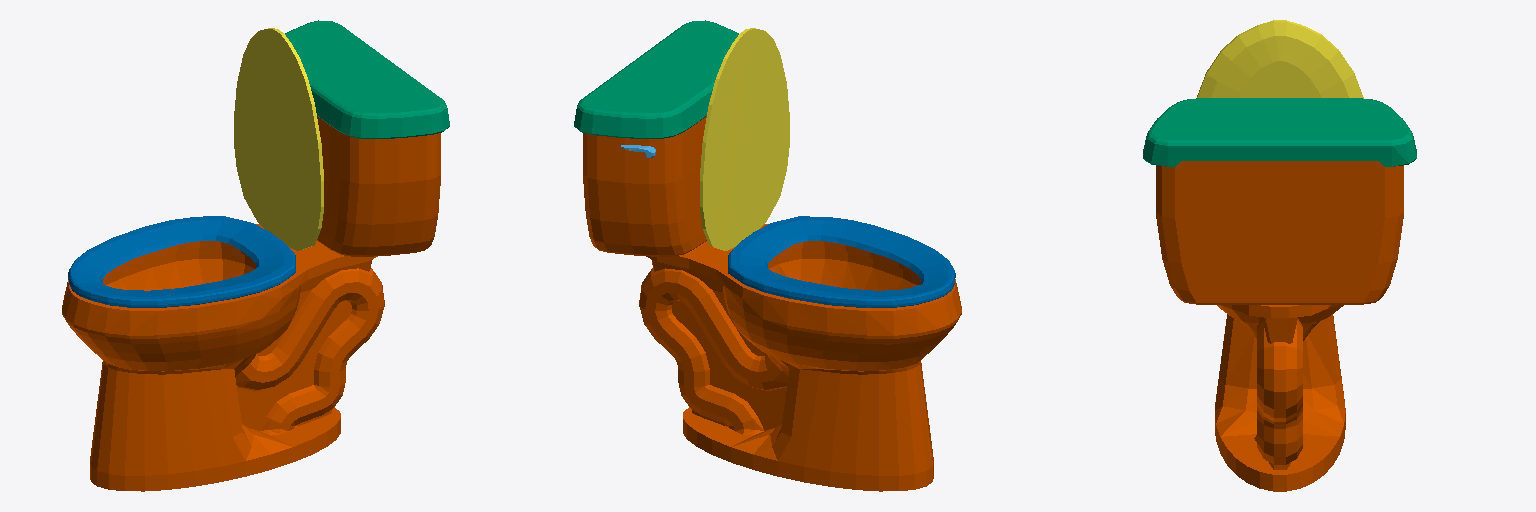
The robot description file, URDF, robot "partnet_90d8ecd307decf706a226ddbed37ec38-0":
<robot name="partnet_90d8ecd307decf706a226ddbed37ec38-0">
	<link name="base" />
	<link name="link_0">
		<collision>
			<origin xyz="0.3735346544769089 -0.49883739760860735 0.21351123852138465" />
			<geometry>
				<mesh filename="new_objs/102667_link_0_1.obj" />
			</geometry>
		</collision>
	<collision>
			<origin xyz="0.3735346544769089 -0.49883739760860735 0.21351123852138465" />
			<geometry>
				<mesh filename="new_objs/102667_link_0_0.obj" />
			</geometry>
		</collision>
	<visual name="button-part[&quot;id]">
			<origin xyz="0.3735346544769089 -0.49883739760860735 0.21351123852138465" />
			<geometry>
				<mesh filename="textured_objs/original-9.obj" />
			</geometry>
		</visual>
		</link>
	<joint name="joint_0" type="revolute">
		<origin xyz="-0.3735346544769089 0.49883739760860735 -0.21351123852138465" />
		<axis xyz="-0.9184431691741543 -6.217336291360914e-06 0.39555296100355597" />
		<child link="link_0" />
		<parent link="link_4" />
		<limit lower="-0.0" upper="0.5235987755982988" />
	</joint>
	<link name="link_1">
		<collision>
			<origin xyz="0 0 0" />
			<geometry>
				<mesh filename="new_objs/102667_link_1_3.obj" />
			</geometry>
		</collision>
		<collision>
			<origin xyz="0 0 0" />
			<geometry>
				<mesh filename="new_objs/102667_link_1_1.obj" />
			</geometry>
		</collision>
		<collision>
			<origin xyz="0 0 0" />
			<geometry>
				<mesh filename="new_objs/102667_link_1_12.obj" />
			</geometry>
		</collision>
		<collision>
			<origin xyz="0 0 0" />
			<geometry>
				<mesh filename="new_objs/102667_link_1_10.obj" />
			</geometry>
		</collision>
		<collision>
			<origin xyz="0 0 0" />
			<geometry>
				<mesh filename="new_objs/102667_link_1_13.obj" />
			</geometry>
		</collision>
		<collision>
			<origin xyz="0 0 0" />
			<geometry>
				<mesh filename="new_objs/102667_link_1_2.obj" />
			</geometry>
		</collision>
		<collision>
			<origin xyz="0 0 0" />
			<geometry>
				<mesh filename="new_objs/102667_link_1_5.obj" />
			</geometry>
		</collision>
		<collision>
			<origin xyz="0 0 0" />
			<geometry>
				<mesh filename="new_objs/102667_link_1_15.obj" />
			</geometry>
		</collision>
		<collision>
			<origin xyz="0 0 0" />
			<geometry>
				<mesh filename="new_objs/102667_link_1_0.obj" />
			</geometry>
		</collision>
		<collision>
			<origin xyz="0 0 0" />
			<geometry>
				<mesh filename="new_objs/102667_link_1_7.obj" />
			</geometry>
		</collision>
		<collision>
			<origin xyz="0 0 0" />
			<geometry>
				<mesh filename="new_objs/102667_link_1_9.obj" />
			</geometry>
		</collision>
		<collision>
			<origin xyz="0 0 0" />
			<geometry>
				<mesh filename="new_objs/102667_link_1_6.obj" />
			</geometry>
		</collision>
		<collision>
			<origin xyz="0 0 0" />
			<geometry>
				<mesh filename="new_objs/102667_link_1_11.obj" />
			</geometry>
		</collision>
		<collision>
			<origin xyz="0 0 0" />
			<geometry>
				<mesh filename="new_objs/102667_link_1_4.obj" />
			</geometry>
		</collision>
		<collision>
			<origin xyz="0 0 0" />
			<geometry>
				<mesh filename="new_objs/102667_link_1_14.obj" />
			</geometry>
		</collision>
		<collision>
			<origin xyz="0 0 0" />
			<geometry>
				<mesh filename="new_objs/102667_link_1_8.obj" />
			</geometry>
		</collision>
		<visual name="lid-part[&quot;id]">
			<origin xyz="0 0 0" />
			<geometry>
				<mesh filename="textured_objs/original-4.obj" />
			</geometry>
		</visual>
		<visual name="lid-part[&quot;id]">
			<origin xyz="0 0 0" />
			<geometry>
				<mesh filename="textured_objs/original-3.obj" />
			</geometry>
		</visual>
		</link>
	<joint name="joint_1" type="prismatic">
		<origin xyz="0 0 0" />
		<axis xyz="0 1 0" />
		<child link="link_1" />
		<parent link="link_4" />
		<limit lower="0" upper="0.03" />
	</joint>
	<link name="link_2">
		<collision>
			<origin xyz="0 -0.04443234440934228 0.040293276283889914" />
			<geometry>
				<mesh filename="new_objs/102667_link_2_0.obj" />
			</geometry>
		</collision>
		<visual name="lid-part[&quot;id]">
			<origin xyz="0 -0.04443234440934228 0.040293276283889914" />
			<geometry>
				<mesh filename="textured_objs/original-19.obj" />
			</geometry>
		</visual>
		<visual name="lid-part[&quot;id]">
			<origin xyz="0 -0.04443234440934228 0.040293276283889914" />
			<geometry>
				<mesh filename="textured_objs/original-18.obj" />
			</geometry>
		</visual>
		</link>
	<joint name="joint_2" type="revolute">
		<origin xyz="0 0.04443234440934228 -0.040293276283889914" />
		<axis xyz="-1 0 0" />
		<child link="link_2" />
		<parent link="link_4" />
		<limit lower="-1.5707963267948966" upper="0.08726646259971647" />
	</joint>
	<link name="link_3">
		<collision>
			<origin xyz="0 -0.04443234440934228 0.040293276283889914" />
			<geometry>
				<mesh filename="new_objs/102667_link_3_5.obj" />
			</geometry>
		</collision>
		<collision>
			<origin xyz="0 -0.04443234440934228 0.040293276283889914" />
			<geometry>
				<mesh filename="new_objs/102667_link_3_2.obj" />
			</geometry>
		</collision>
		<collision>
			<origin xyz="0 -0.04443234440934228 0.040293276283889914" />
			<geometry>
				<mesh filename="new_objs/102667_link_3_7.obj" />
			</geometry>
		</collision>
		<collision>
			<origin xyz="0 -0.04443234440934228 0.040293276283889914" />
			<geometry>
				<mesh filename="new_objs/102667_link_3_6.obj" />
			</geometry>
		</collision>
		<collision>
			<origin xyz="0 -0.04443234440934228 0.040293276283889914" />
			<geometry>
				<mesh filename="new_objs/102667_link_3_4.obj" />
			</geometry>
		</collision>
		<collision>
			<origin xyz="0 -0.04443234440934228 0.040293276283889914" />
			<geometry>
				<mesh filename="new_objs/102667_link_3_3.obj" />
			</geometry>
		</collision>
		<collision>
			<origin xyz="0 -0.04443234440934228 0.040293276283889914" />
			<geometry>
				<mesh filename="new_objs/102667_link_3_0.obj" />
			</geometry>
		</collision>
		<collision>
			<origin xyz="0 -0.04443234440934228 0.040293276283889914" />
			<geometry>
				<mesh filename="new_objs/102667_link_3_1.obj" />
			</geometry>
		</collision>
		<visual name="seat-part[&quot;id]">
			<origin xyz="0 -0.04443234440934228 0.040293276283889914" />
			<geometry>
				<mesh filename="textured_objs/original-16.obj" />
			</geometry>
		</visual>
		<visual name="seat-part[&quot;id]">
			<origin xyz="0 -0.04443234440934228 0.040293276283889914" />
			<geometry>
				<mesh filename="textured_objs/original-15.obj" />
			</geometry>
		</visual>
		</link>
	<joint name="joint_3" type="revolute">
		<origin xyz="0 0.04443234440934228 -0.040293276283889914" />
		<axis xyz="-1 0 0" />
		<child link="link_3" />
		<parent link="link_4" />
		<limit lower="-0.0" upper="1.658062789394613" />
	</joint>
	<link name="link_4">
		<collision>
			<origin xyz="0 0 0" />
			<geometry>
				<mesh filename="new_objs/102667_link_4_7.obj" />
			</geometry>
		</collision>
		<collision>
			<origin xyz="0 0 0" />
			<geometry>
				<mesh filename="new_objs/102667_link_4_16.obj" />
			</geometry>
		</collision>
		<collision>
			<origin xyz="0 0 0" />
			<geometry>
				<mesh filename="new_objs/102667_link_4_6.obj" />
			</geometry>
		</collision>
		<collision>
			<origin xyz="0 0 0" />
			<geometry>
				<mesh filename="new_objs/102667_link_4_17.obj" />
			</geometry>
		</collision>
		<collision>
			<origin xyz="0 0 0" />
			<geometry>
				<mesh filename="new_objs/102667_link_4_2.obj" />
			</geometry>
		</collision>
		<collision>
			<origin xyz="0 0 0" />
			<geometry>
				<mesh filename="new_objs/102667_link_4_29.obj" />
			</geometry>
		</collision>
		<collision>
			<origin xyz="0 0 0" />
			<geometry>
				<mesh filename="new_objs/102667_link_4_10.obj" />
			</geometry>
		</collision>
		<collision>
			<origin xyz="0 0 0" />
			<geometry>
				<mesh filename="new_objs/102667_link_4_15.obj" />
			</geometry>
		</collision>
		<collision>
			<origin xyz="0 0 0" />
			<geometry>
				<mesh filename="new_objs/102667_link_4_23.obj" />
			</geometry>
		</collision>
		<collision>
			<origin xyz="0 0 0" />
			<geometry>
				<mesh filename="new_objs/102667_link_4_9.obj" />
			</geometry>
		</collision>
		<collision>
			<origin xyz="0 0 0" />
			<geometry>
				<mesh filename="new_objs/102667_link_4_4.obj" />
			</geometry>
		</collision>
		<collision>
			<origin xyz="0 0 0" />
			<geometry>
				<mesh filename="new_objs/102667_link_4_24.obj" />
			</geometry>
		</collision>
		<collision>
			<origin xyz="0 0 0" />
			<geometry>
				<mesh filename="new_objs/102667_link_4_14.obj" />
			</geometry>
		</collision>
		<collision>
			<origin xyz="0 0 0" />
			<geometry>
				<mesh filename="new_objs/102667_link_4_28.obj" />
			</geometry>
		</collision>
		<collision>
			<origin xyz="0 0 0" />
			<geometry>
				<mesh filename="new_objs/102667_link_4_21.obj" />
			</geometry>
		</collision>
		<collision>
			<origin xyz="0 0 0" />
			<geometry>
				<mesh filename="new_objs/102667_link_4_5.obj" />
			</geometry>
		</collision>
		<collision>
			<origin xyz="0 0 0" />
			<geometry>
				<mesh filename="new_objs/102667_link_4_25.obj" />
			</geometry>
		</collision>
		<collision>
			<origin xyz="0 0 0" />
			<geometry>
				<mesh filename="new_objs/102667_link_4_18.obj" />
			</geometry>
		</collision>
		<collision>
			<origin xyz="0 0 0" />
			<geometry>
				<mesh filename="new_objs/102667_link_4_19.obj" />
			</geometry>
		</collision>
		<collision>
			<origin xyz="0 0 0" />
			<geometry>
				<mesh filename="new_objs/102667_link_4_30.obj" />
			</geometry>
		</collision>
		<collision>
			<origin xyz="0 0 0" />
			<geometry>
				<mesh filename="new_objs/102667_link_4_20.obj" />
			</geometry>
		</collision>
		<collision>
			<origin xyz="0 0 0" />
			<geometry>
				<mesh filename="new_objs/102667_link_4_11.obj" />
			</geometry>
		</collision>
		<collision>
			<origin xyz="0 0 0" />
			<geometry>
				<mesh filename="new_objs/102667_link_4_22.obj" />
			</geometry>
		</collision>
		<collision>
			<origin xyz="0 0 0" />
			<geometry>
				<mesh filename="new_objs/102667_link_4_1.obj" />
			</geometry>
		</collision>
		<collision>
			<origin xyz="0 0 0" />
			<geometry>
				<mesh filename="new_objs/102667_link_4_26.obj" />
			</geometry>
		</collision>
		<collision>
			<origin xyz="0 0 0" />
			<geometry>
				<mesh filename="new_objs/102667_link_4_13.obj" />
			</geometry>
		</collision>
		<collision>
			<origin xyz="0 0 0" />
			<geometry>
				<mesh filename="new_objs/102667_link_4_8.obj" />
			</geometry>
		</collision>
		<collision>
			<origin xyz="0 0 0" />
			<geometry>
				<mesh filename="new_objs/102667_link_4_27.obj" />
			</geometry>
		</collision>
		<collision>
			<origin xyz="0 0 0" />
			<geometry>
				<mesh filename="new_objs/102667_link_4_0.obj" />
			</geometry>
		</collision>
		<collision>
			<origin xyz="0 0 0" />
			<geometry>
				<mesh filename="new_objs/102667_link_4_12.obj" />
			</geometry>
		</collision>
		<collision>
			<origin xyz="0 0 0" />
			<geometry>
				<mesh filename="new_objs/102667_link_4_3.obj" />
			</geometry>
		</collision>
		<visual name="base_body-part[&quot;id]">
			<origin xyz="0 0 0" />
			<geometry>
				<mesh filename="textured_objs/original-8.obj" />
			</geometry>
		</visual>
		<visual name="base_body-part[&quot;id]">
			<origin xyz="0 0 0" />
			<geometry>
				<mesh filename="textured_objs/original-13.obj" />
			</geometry>
		</visual>
		<visual name="base_body-part[&quot;id]">
			<origin xyz="0 0 0" />
			<geometry>
				<mesh filename="textured_objs/original-6.obj" />
			</geometry>
		</visual>
		<visual name="base_body-part[&quot;id]">
			<origin xyz="0 0 0" />
			<geometry>
				<mesh filename="textured_objs/original-11.obj" />
			</geometry>
		</visual>
		<visual name="base_body-part[&quot;id]">
			<origin xyz="0 0 0" />
			<geometry>
				<mesh filename="textured_objs/original-12.obj" />
			</geometry>
		</visual>
		<visual name="base_body-part[&quot;id]">
			<origin xyz="0 0 0" />
			<geometry>
				<mesh filename="textured_objs/original-7.obj" />
			</geometry>
		</visual>
		</link>
	<joint name="joint_4" type="fixed">
		<origin rpy="1.570796326794897 0 -1.570796326794897" xyz="0 0 0" />
		<child link="link_4" />
		<parent link="base" />
	</joint>
</robot>

--- Facts derived from the render (not from the file) ---
Views: 3 orthographic renders of the robot side by side, from view 1: azimuth 30°, elevation 25°; view 2: azimuth 150°, elevation 25°; view 3: azimuth 270°, elevation 25°.
Robot: partnet_90d8ecd307decf706a226ddbed37ec38-0 — 6 links, 5 joints (3 revolute, 1 prismatic, 1 fixed); root link base; default pose: every joint at zero.
Visible links, largest first — view 1: link_4, link_2, link_1, link_3; view 2: link_4, link_2, link_1, link_3; view 3: link_4, link_1, link_2.
Boxes of the visible links, x1,y1,x2,y2 form: link_4: (62, 116, 440, 491); link_2: (234, 28, 323, 250); link_1: (285, 20, 449, 138); link_3: (68, 216, 295, 307); link_4: (583, 116, 961, 491); link_2: (700, 28, 789, 250); link_1: (574, 20, 738, 138); link_3: (728, 216, 955, 307); link_4: (1156, 161, 1403, 491); link_1: (1143, 98, 1416, 166); link_2: (1196, 20, 1363, 98).
Size in the robot's own frame: 1.33 by 0.9077 by 1.6 metres.
13 mesh visuals loaded from 13 distinct referenced files (13 OBJ).
